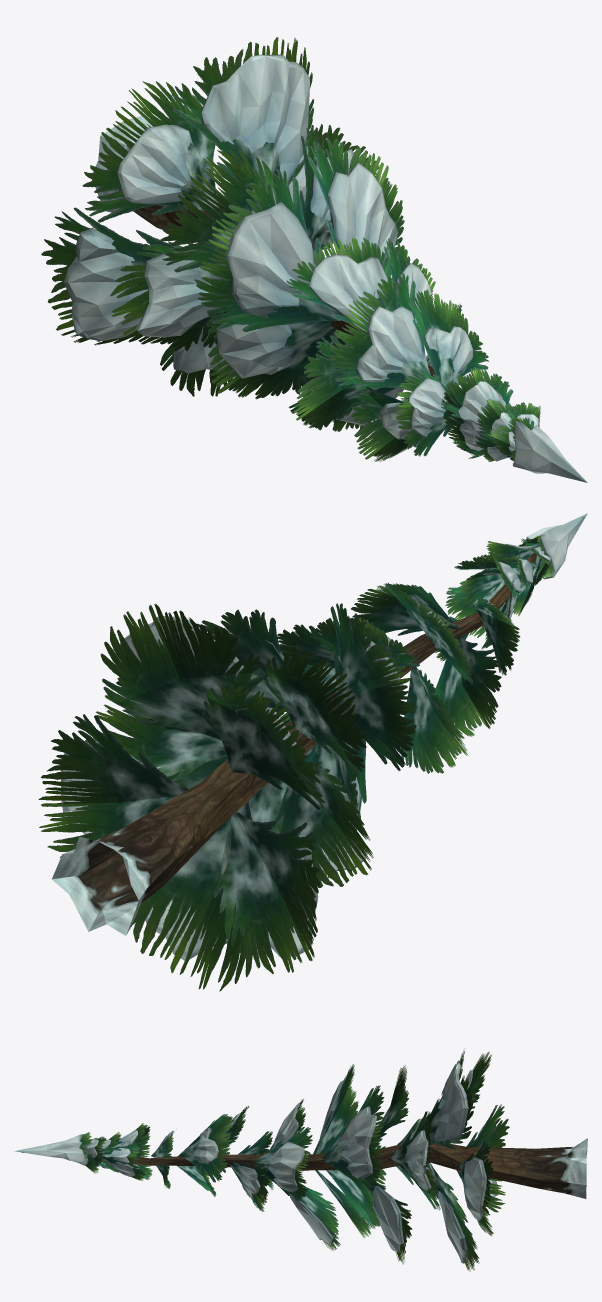
Rendered from huodong_fuben_382_shu_01.obj.
3 renders of one model, top to bottom at view 1: azimuth 30°, elevation 25°; view 2: azimuth 150°, elevation 25°; view 3: azimuth 270°, elevation 25°, orthographic. The views are drawn at different scales.
Visible parts, largest first — view 1: huodong_fuben_382_shu_01; view 2: huodong_fuben_382_shu_01; view 3: huodong_fuben_382_shu_01.
Part boxes in pixels (x1=…): huodong_fuben_382_shu_01: x1=41, y1=37, x2=587, y2=482; huodong_fuben_382_shu_01: x1=38, y1=513, x2=587, y2=991; huodong_fuben_382_shu_01: x1=14, y1=1050, x2=587, y2=1271.
Size of the model in its own units: 248 by 289 by 621.
Materials: 3 (3 with a texture image).
